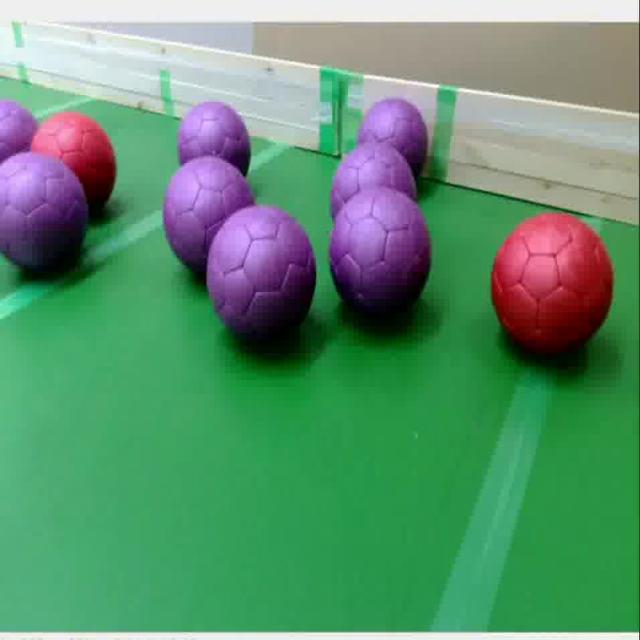purple_ball: (209, 208, 318, 347), (328, 193, 434, 331), (164, 156, 256, 265), (0, 174, 86, 276), (327, 142, 419, 218), (356, 96, 430, 176), (177, 100, 253, 177), (0, 104, 31, 152)
red_ball: (491, 215, 616, 362), (36, 121, 119, 156)
